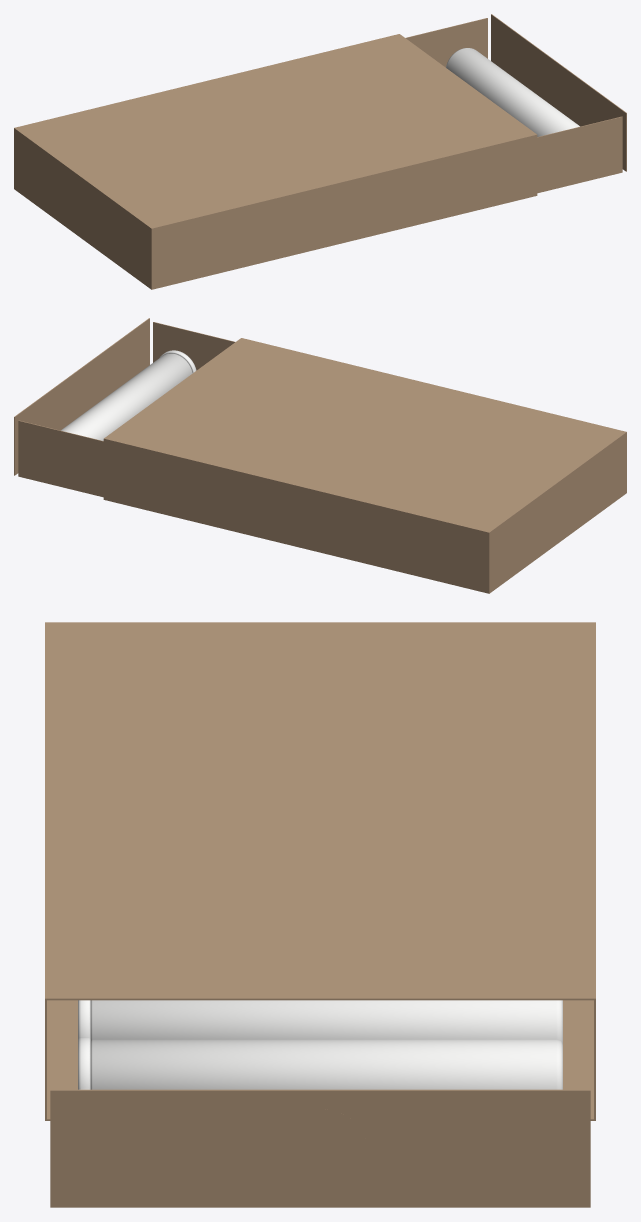
File: preroll-71_5gr-box-side-open.glb
The picture shows the model from 3 angles, top to bottom: view 1: azimuth 30°, elevation 25°; view 2: azimuth 150°, elevation 25°; view 3: azimuth 270°, elevation 25°; orthographic projection. The views are drawn at different scales.
Visible parts, largest first — view 1: p15d_s1, p15d_s2, p15d_s4, p15d_d4, p15d_d1, t6_body, p15d_d2, p15d_s0; view 2: p15d_s1, p15d_s3, p15d_s4, p15d_d4, p15d_d2, t6_body, p15d_d1, p15d_s0; view 3: p15d_s1, p15d_d4, t5_body, t4_body, p15d_d0, p15d_tab, p15d_s0, p15d_s2, p15d_s3.
Part boxes in pixels (box(x1,y1,x2,y2)): p15d_s1: box(14, 34, 537, 229); p15d_s2: box(151, 134, 537, 289); p15d_s4: box(14, 128, 152, 289); p15d_d4: box(491, 14, 626, 171); p15d_d1: box(537, 116, 622, 192); t6_body: box(446, 48, 579, 136); p15d_d2: box(405, 18, 487, 67); p15d_s0: box(21, 194, 537, 289); p15d_s1: box(103, 338, 626, 532); p15d_s3: box(103, 438, 489, 593); p15d_s4: box(488, 433, 626, 593); p15d_d4: box(14, 318, 149, 475); p15d_d2: box(18, 420, 103, 496); t6_body: box(61, 353, 192, 440); p15d_d1: box(153, 322, 235, 370); p15d_s0: box(103, 497, 620, 593); p15d_s1: box(45, 622, 595, 1000); p15d_d4: box(50, 1089, 590, 1207); t5_body: box(90, 1039, 562, 1089); t4_body: box(90, 1000, 562, 1043); p15d_d0: box(52, 1000, 588, 1089); p15d_tab: box(320, 1109, 368, 1196); p15d_s0: box(45, 1000, 595, 1120); p15d_s2: box(45, 622, 46, 1119); p15d_s3: box(594, 623, 595, 1119).
Size of the model in its own units: 0.2608 by 0.032 by 0.1305.
